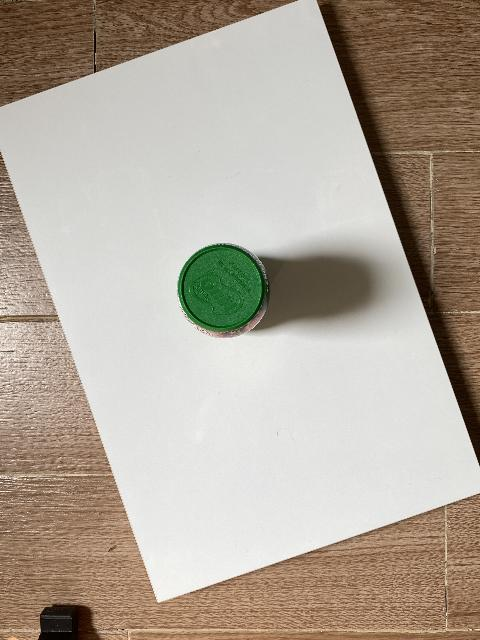milo: (177, 243, 270, 339)
